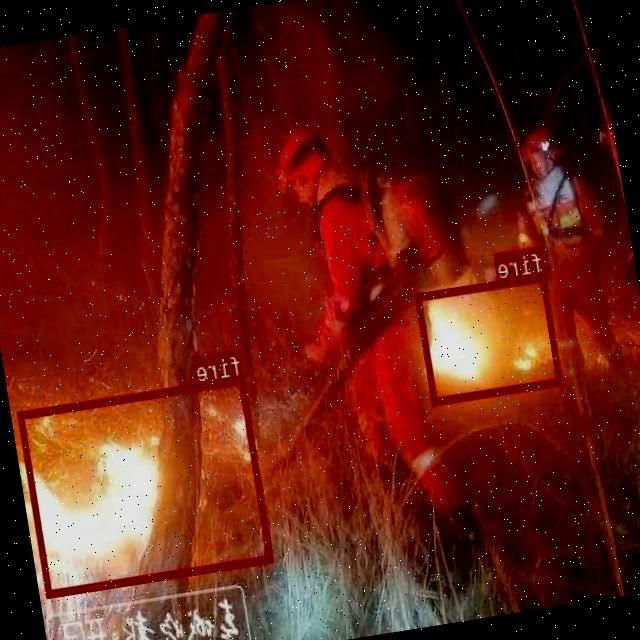fire: (18, 374, 275, 596), (416, 272, 564, 404)
